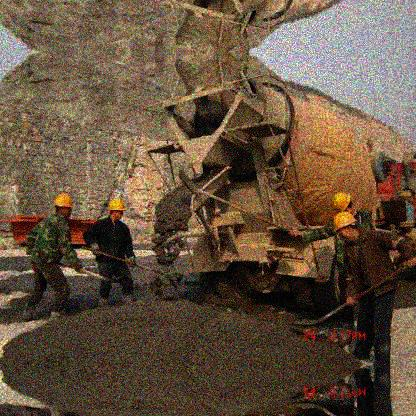helmet: (331, 212, 360, 245), (53, 192, 73, 219), (334, 191, 358, 213), (106, 198, 124, 220)
